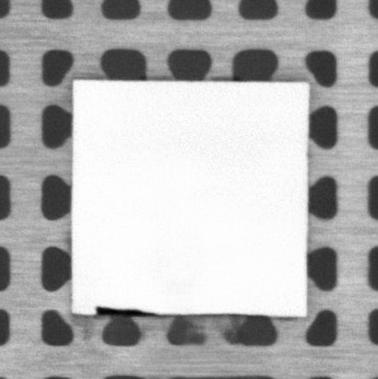DIE_BROKEN: (93, 304, 156, 317)
